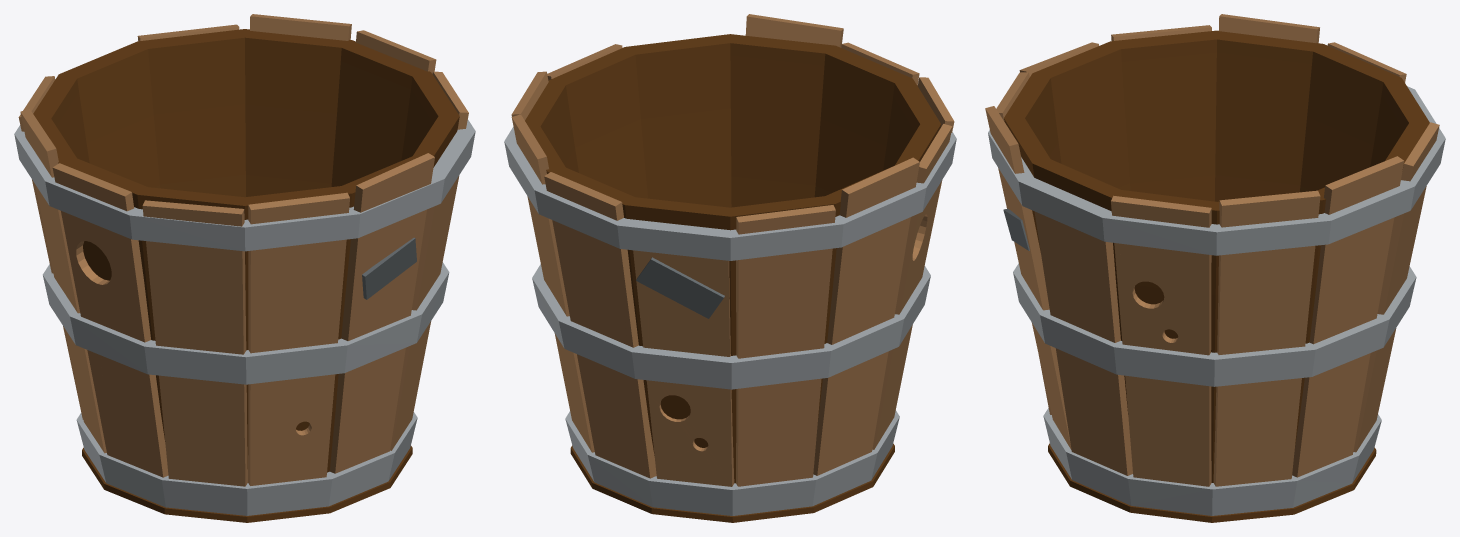
Rendered from bucket.obj.
The picture shows the model from 3 angles, left to right: view 1: azimuth 30°, elevation 25°; view 2: azimuth 150°, elevation 25°; view 3: azimuth 270°, elevation 25°; orthographic projection.
Parts seen in each view (by area): view 1: obj_0; view 2: obj_0; view 3: obj_0.
Boxes of the visible parts, left/top/right/bottom form: obj_0: left=14, top=14, right=475, bottom=522; obj_0: left=504, top=14, right=956, bottom=522; obj_0: left=985, top=14, right=1445, bottom=522.
Bounding box in the file's own units: 27.91 × 23.7 × 28.08.
